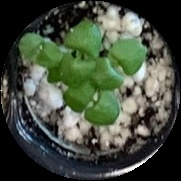Basil: (93, 38, 146, 89), (65, 87, 120, 125), (69, 22, 99, 86), (22, 35, 65, 72)
